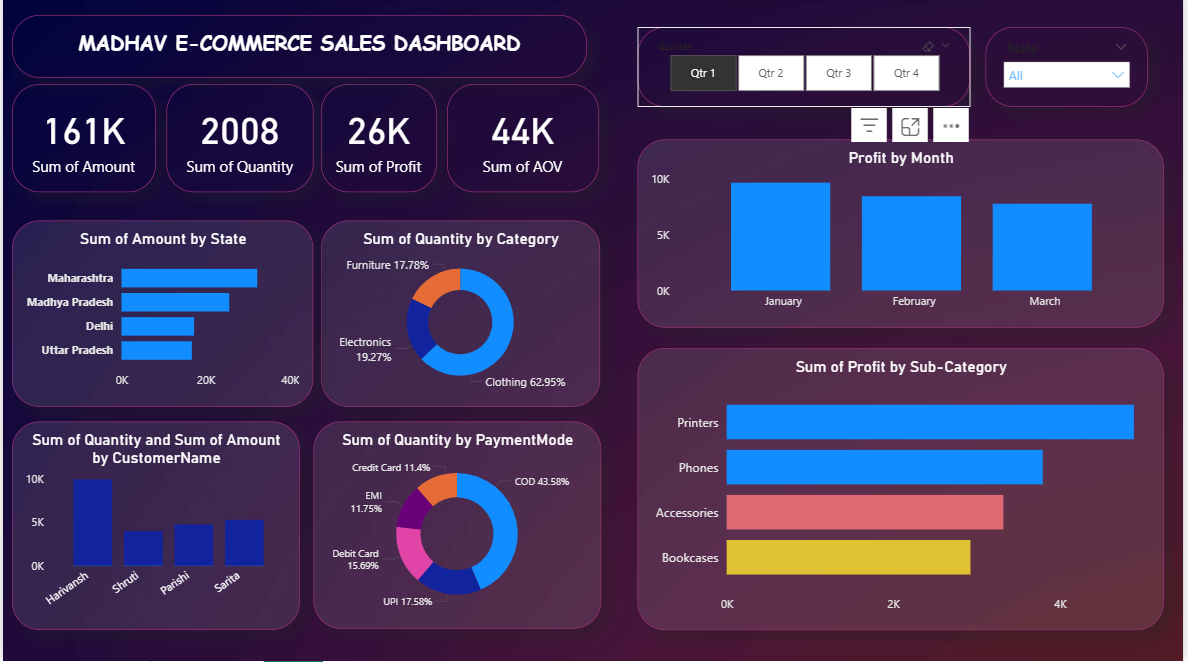

What the dashboard file says about the page in this screenshot:
{"tool":"powerbi","page":{"name":"Page 1","canvas":[1280,720],"ordinal":0},"visuals":[{"type":"textbox","box":[9.4,18.9,623.6,68],"z":0},{"type":"columnChart","title":"Profit by Month","fields":{"Category":["Orders.Order Date.Variation.Date Hierarchy.Month"],"Y":["Sum(Details.Profit)"]},"box":[687.9,155,570.7,204.1],"z":1000},{"type":"barChart","fields":{"Category":["Details.Sub-Category"],"Y":["Sum(Details.Profit)"]},"box":[687.9,379.8,570.7,306.1],"z":2000},{"type":"donutChart","fields":{"Category":["Details.Category"],"Y":["Sum(Details.Quantity)"]},"box":[344.8,242.4,302.5,201.7],"z":3000},{"type":"donutChart","fields":{"Y":["Sum(Details.Quantity)"],"Category":["Details.PaymentMode"]},"box":[336.4,461.1,311.8,224.9],"z":4000},{"type":"card","fields":{"Values":["Sum(Details.Amount)"]},"box":[9.8,94.3,156.1,117.1],"z":4002},{"type":"card","fields":{"Values":["Sum(Details.Quantity)"]},"box":[177.3,94.3,159.4,117.1],"z":4003},{"type":"card","fields":{"Values":["Sum(Details.Profit)"]},"box":[344.8,94.3,125.2,117.1],"z":4004},{"type":"card","fields":{"Values":["Sum(Details.AOV)"]},"box":[481.9,94.5,164.4,117.2],"z":4005},{"type":"barChart","fields":{"Category":["Orders.State"],"Y":["Sum(Details.Amount)"]},"box":[9.8,242.4,326.9,201.7],"z":4006},{"type":"columnChart","fields":{"Category":["Orders.CustomerName"],"Y":["Sum(Details.Quantity)","Sum(Details.Amount)"]},"box":[10,460,312,226],"z":4007},{"type":"slicer","fields":{"Values":["Orders.Order Date.Variation.Date Hierarchy.Quarter"]},"box":[687.9,32.1,360.9,86.9],"z":4008},{"type":"slicer","fields":{"Values":["Orders.State"]},"box":[1065.8,32.1,175.7,86.9],"z":4009}]}

Visuals, with their boxes in screenshot pixels (x1, y1, x2, y2), scaled from the page's 1280x720 canvas onto the 1188x662 screenshot:
textbox: [x1=9, y1=17, x2=588, y2=80]
"Profit by Month" columnChart: [x1=638, y1=143, x2=1168, y2=330]
barChart - Details.Sub-Category x Sum(Details.Profit): [x1=638, y1=349, x2=1168, y2=631]
donutChart - Details.Category x Sum(Details.Quantity): [x1=320, y1=223, x2=601, y2=408]
donutChart - Sum(Details.Quantity) x Details.PaymentMode: [x1=312, y1=424, x2=602, y2=631]
card - Sum(Details.Amount): [x1=9, y1=87, x2=154, y2=194]
card - Sum(Details.Quantity): [x1=165, y1=87, x2=312, y2=194]
card - Sum(Details.Profit): [x1=320, y1=87, x2=436, y2=194]
card - Sum(Details.AOV): [x1=447, y1=87, x2=600, y2=195]
barChart - Orders.State x Sum(Details.Amount): [x1=9, y1=223, x2=312, y2=408]
columnChart - Orders.CustomerName x Sum(Details.Quantity): [x1=9, y1=423, x2=299, y2=631]
slicer - Orders.Order Date.Variation.Date Hierarchy.Quarter: [x1=638, y1=30, x2=973, y2=109]
slicer - Orders.State: [x1=989, y1=30, x2=1152, y2=109]
